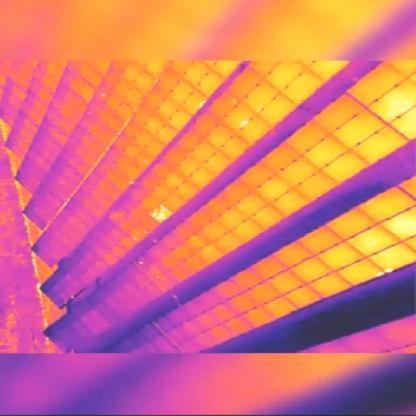anomaly: (151, 204, 171, 225)
